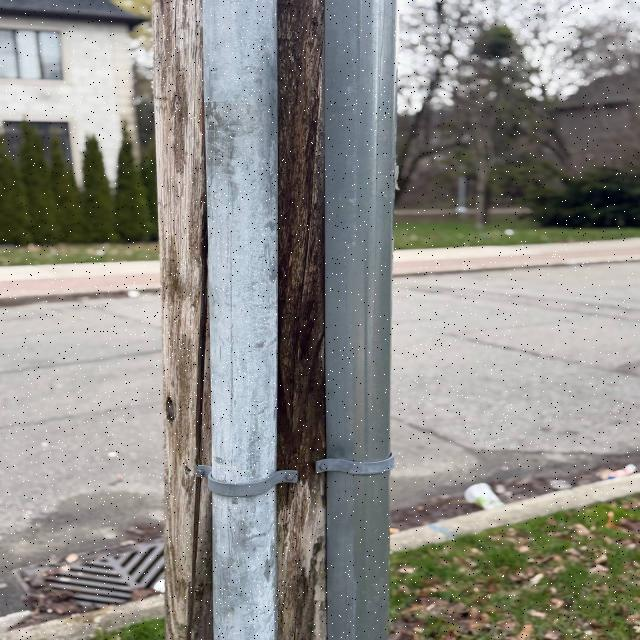Electrical Pole: (148, 0, 408, 640)
